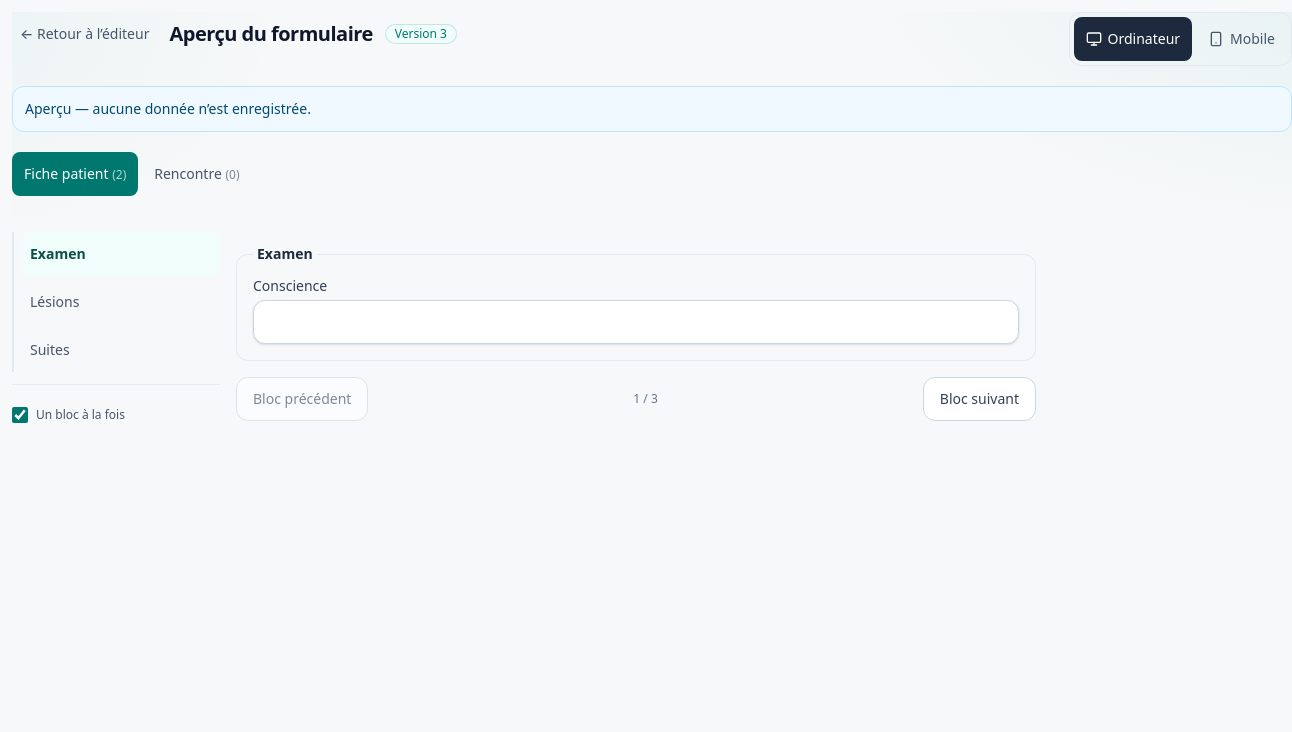
Test: FormPreview — rang des groupes répétables (L72b) › un groupe racine est rendu a son rang declare, et non plus en pied de formulaire
This screenshot has width=1292, height=732.
What coordinates should you click on to do the following:
click the tab "Fiche patient (2)"
I would click on:
 (75, 174)
Its box is [12,152,138,196].
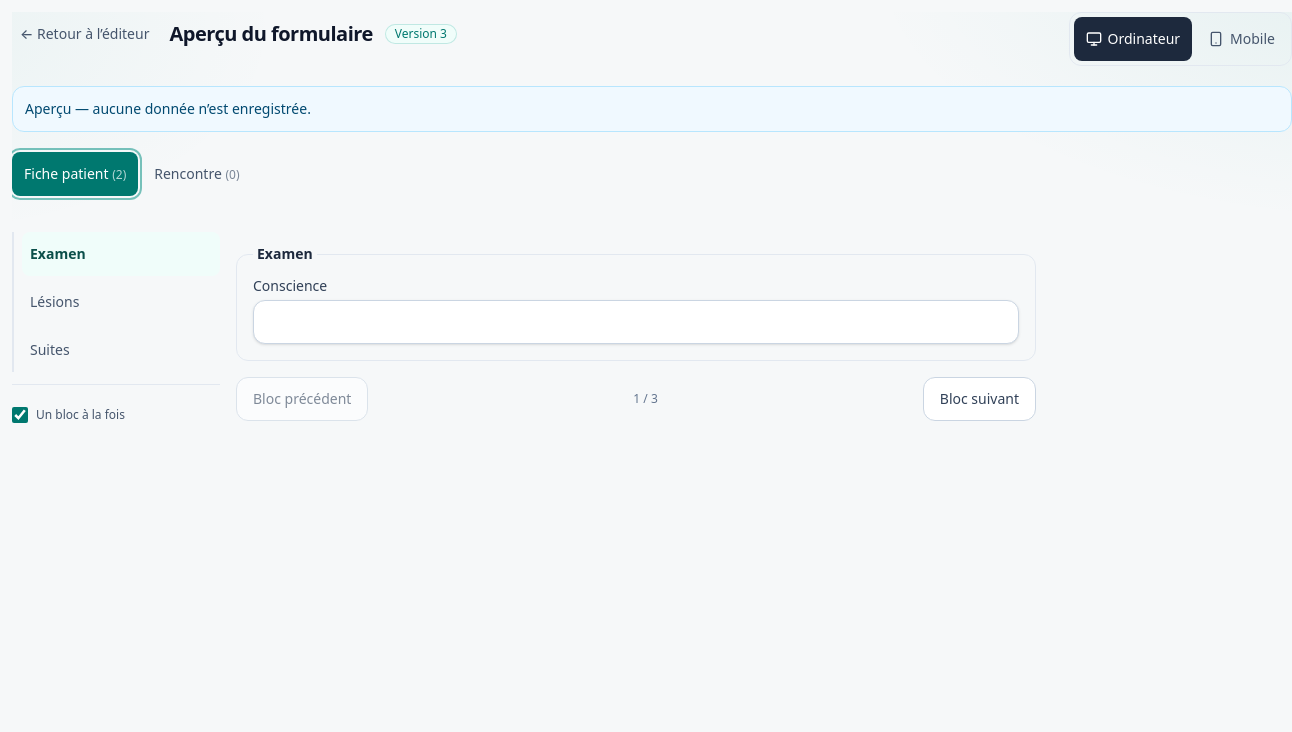
What coordinates should you click on to do the following:
click the button "Bloc suivant"
I would click on:
 (979, 399)
Its box is [923,377,1036,421].
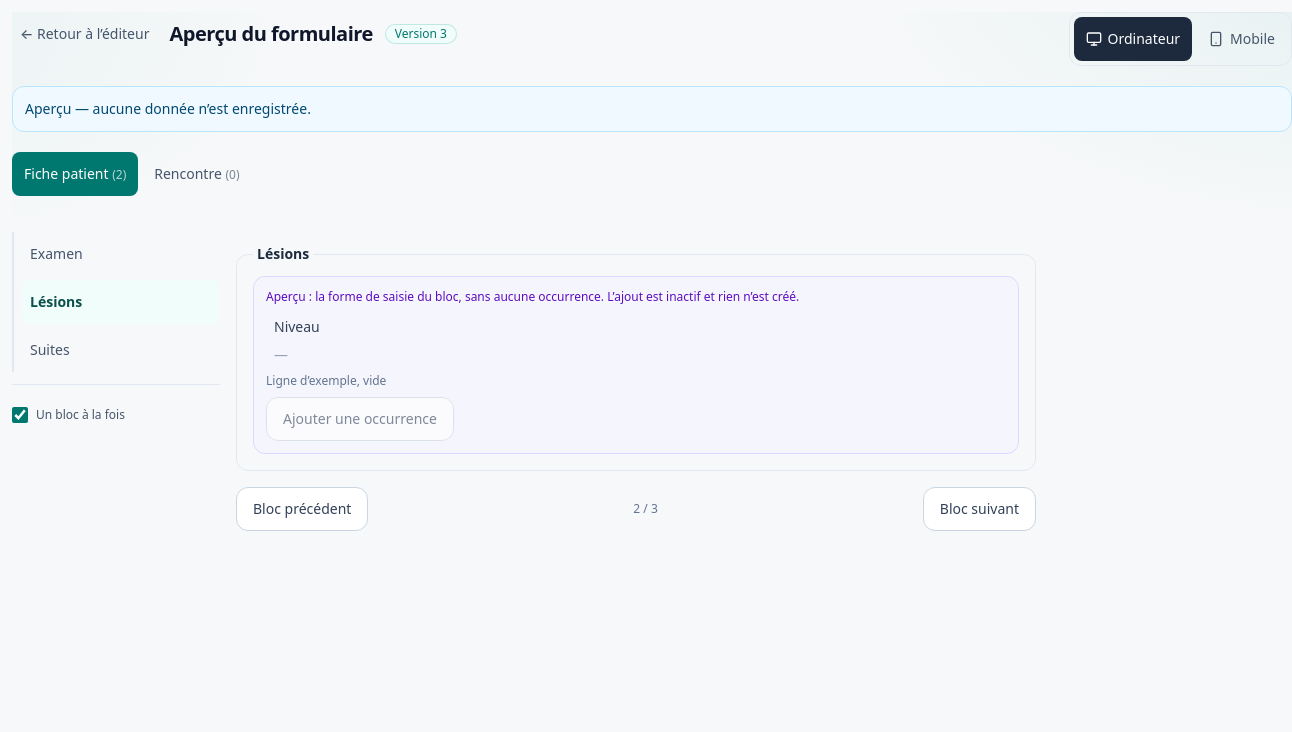
Expected: the button "Ajouter une occurrence" is disabled, [266,397,454,441]
